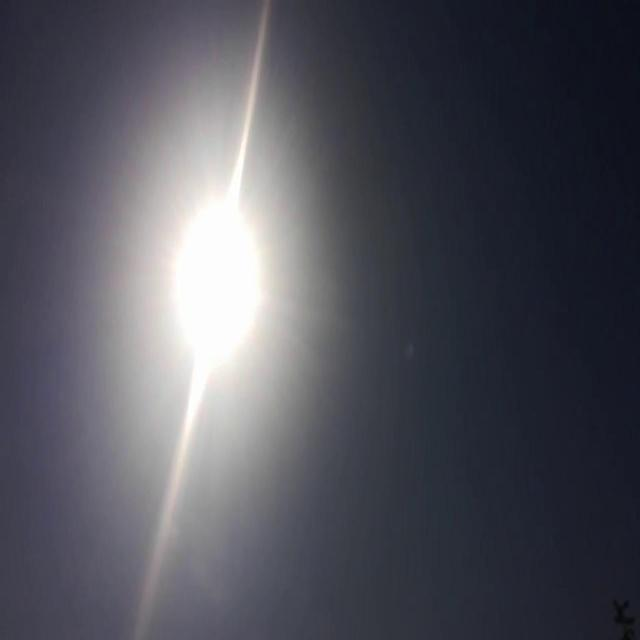other: (149, 122, 278, 428)
